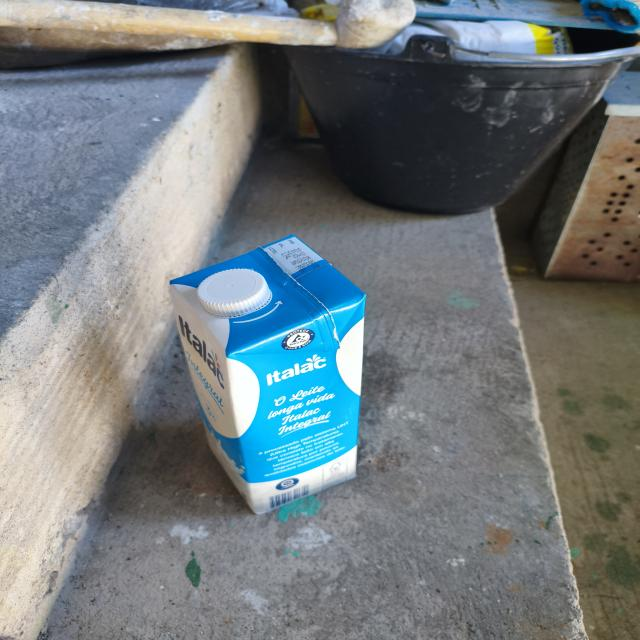Caixa de Leite: (169, 223, 371, 515)
